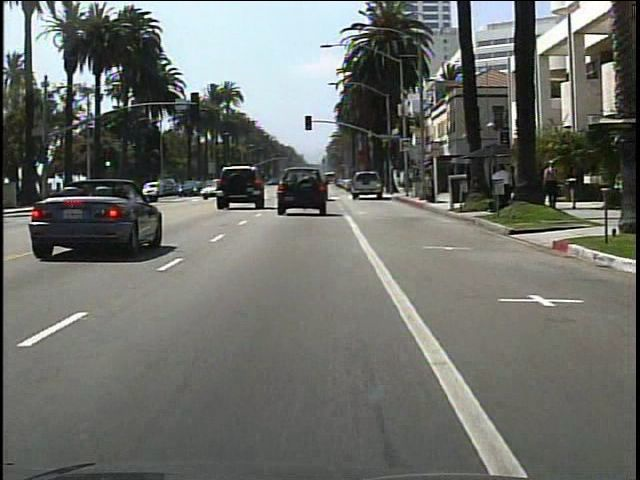person: (490, 161, 515, 213), (540, 158, 563, 213)
